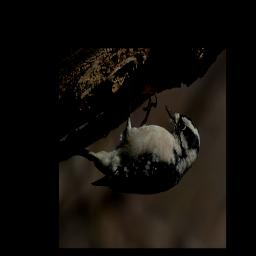Woodpecker: (73, 94, 199, 195)
